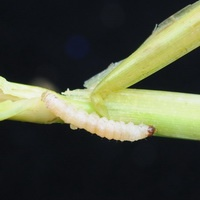insect: (0, 0, 194, 91), (132, 48, 199, 92)
